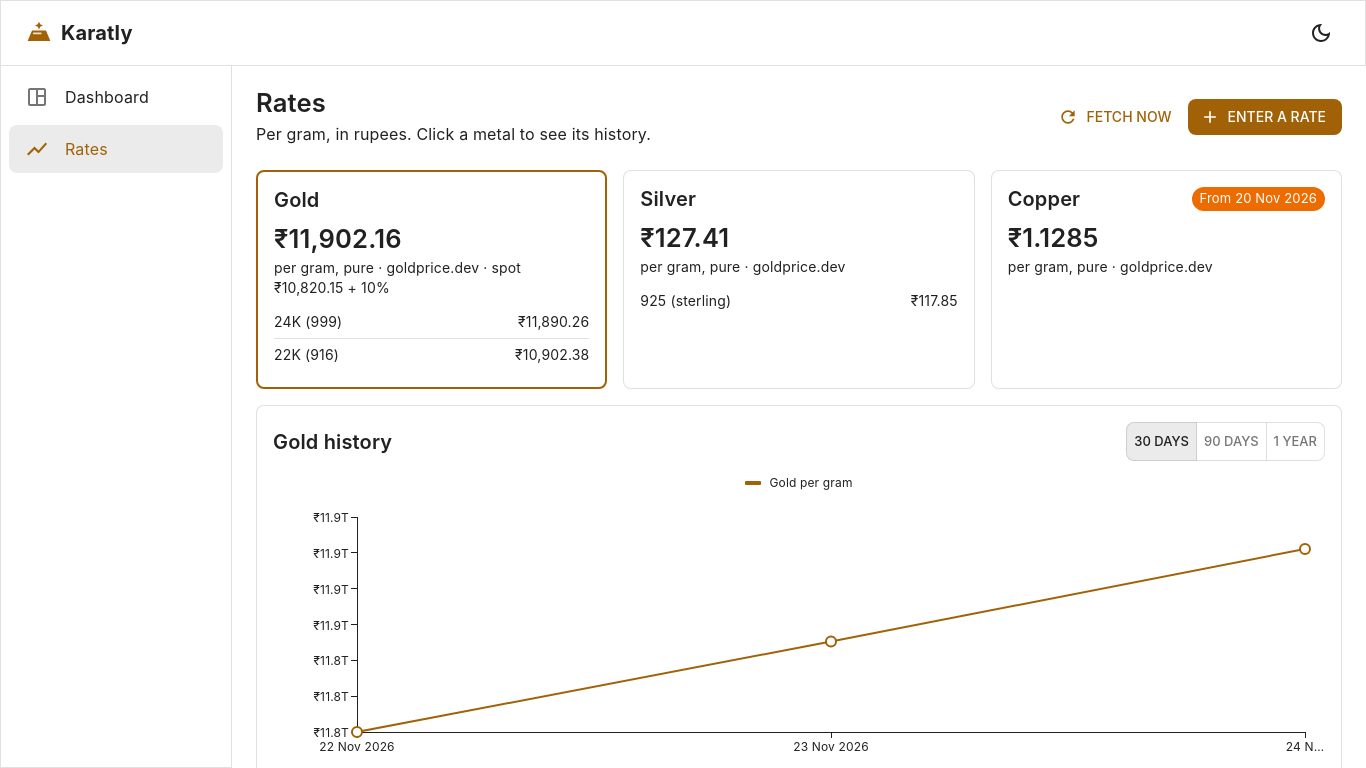
Rates page › enters a rate by hand and sends it to the API
This screenshot has width=1366, height=768.
Click the button "Enter a rate". click: [1265, 117]
box: [1188,99,1342,135]
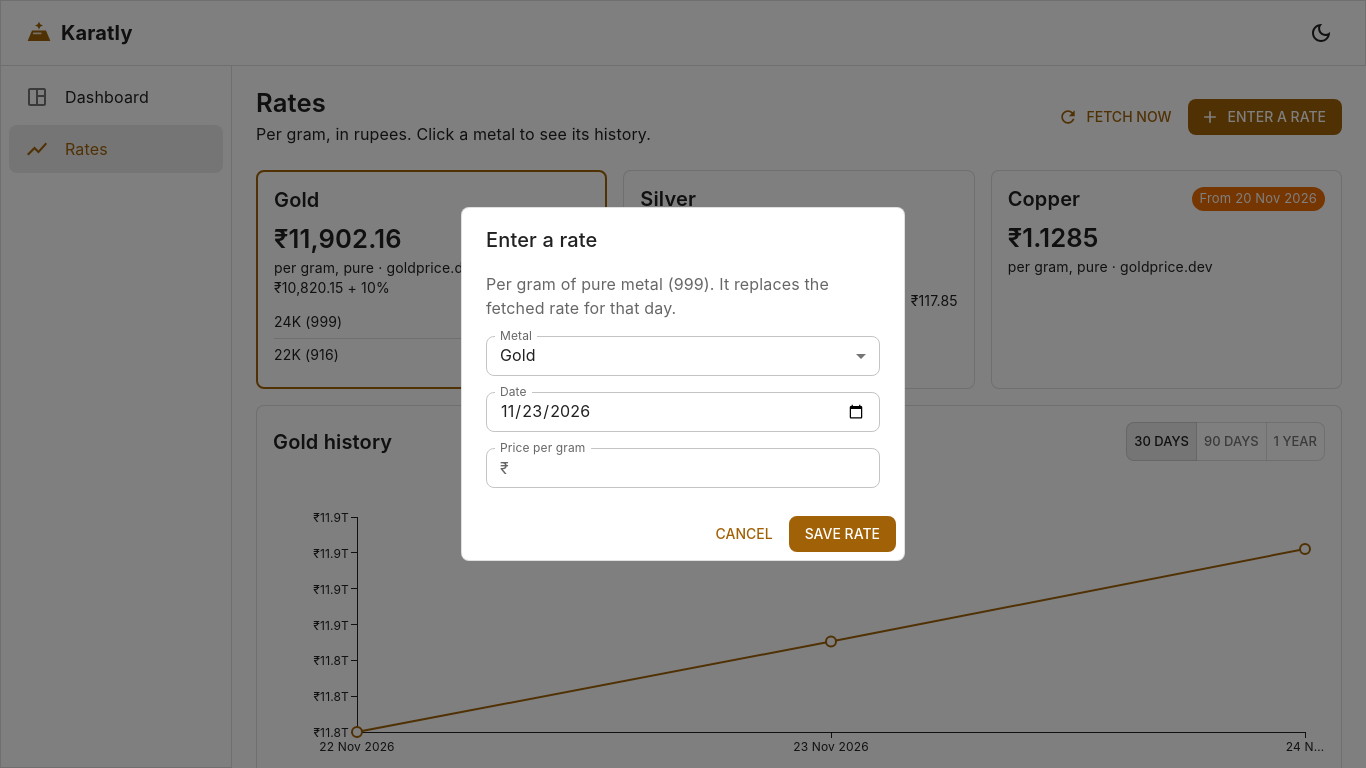
Type "abc" into the field labelled "Price per gram". click: [698, 468]
box: [517,448,880,488]
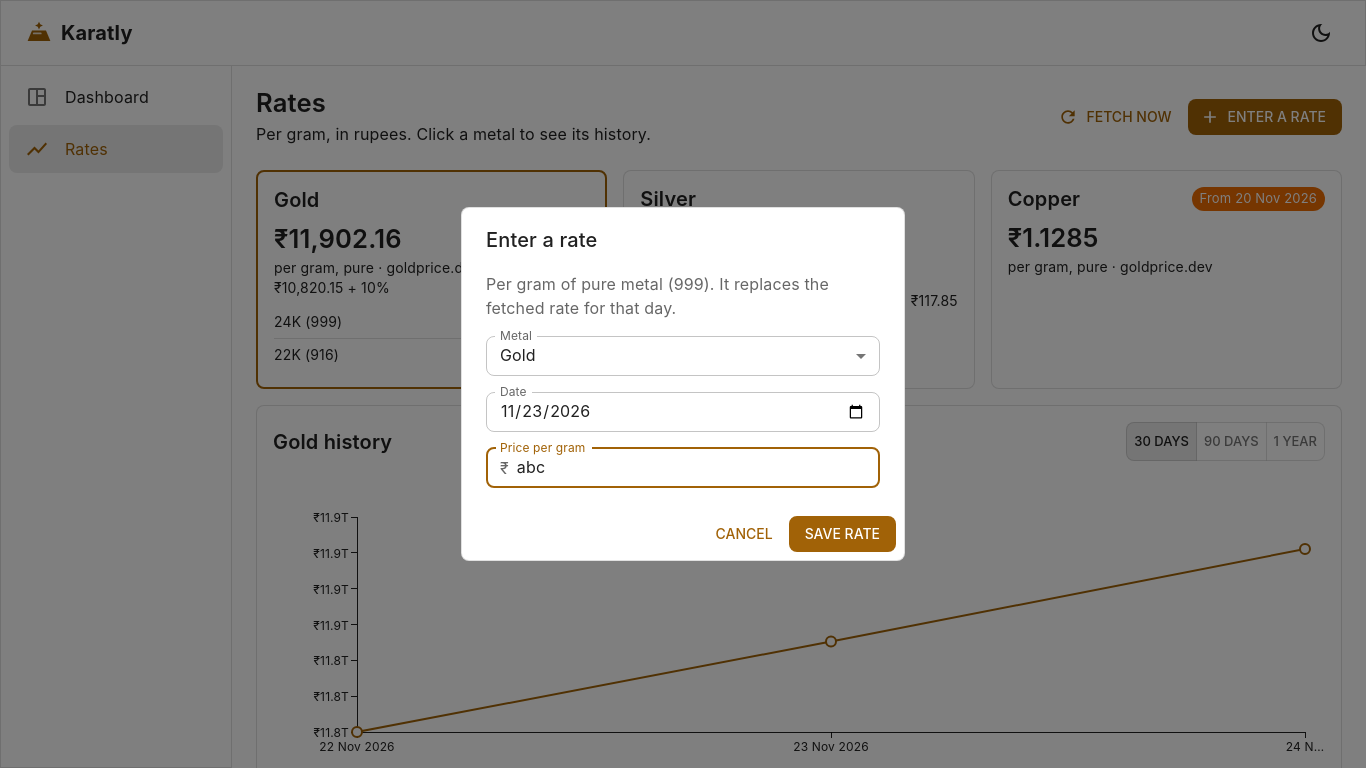
Click the button "Save rate". click: [842, 534]
box: [789,516,896,552]
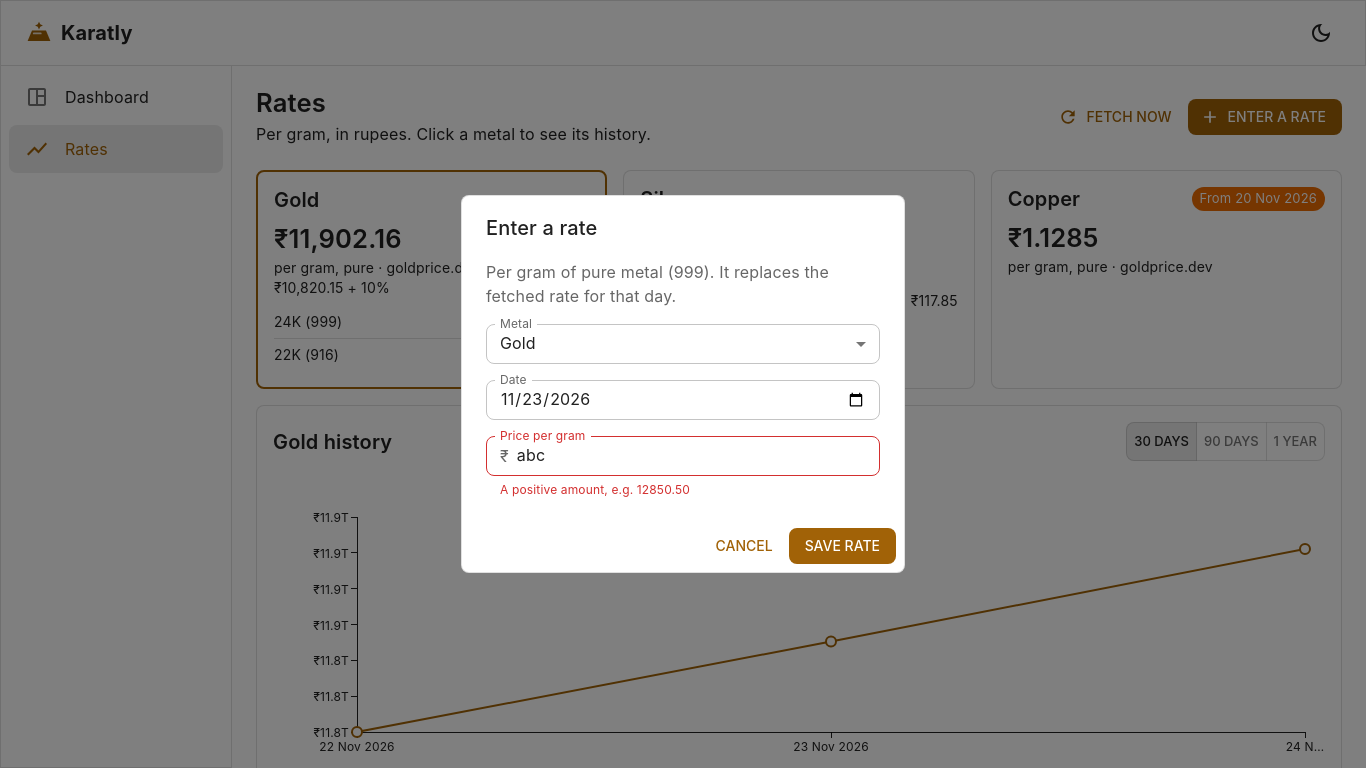
Now the text "A positive amount, e.g. 12850.50" is shown, box [500,482,690,497]
Replace the text in the field labelled "Price per gram" with "12850.50". click: [698, 456]
box: [517,436,880,476]
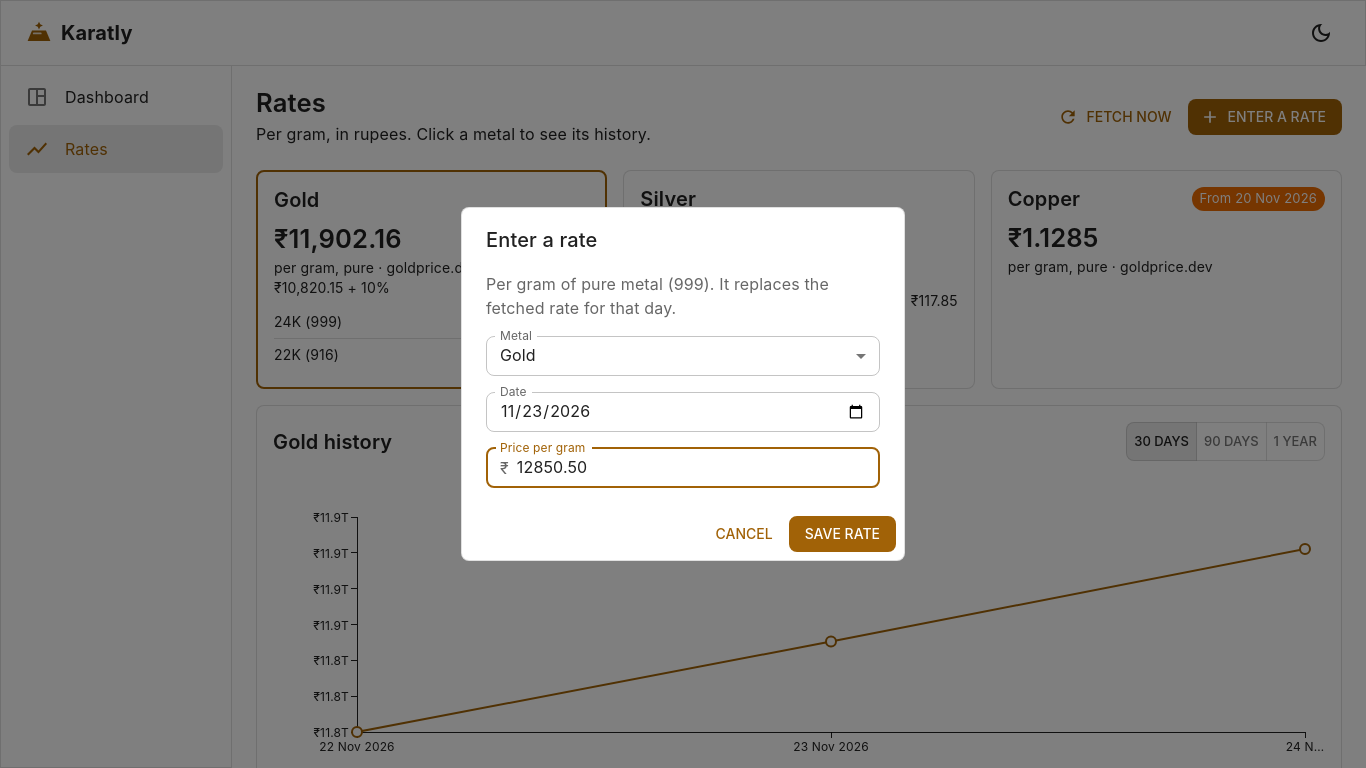
Click the button "Save rate". click: [842, 534]
box: [789,516,896,552]
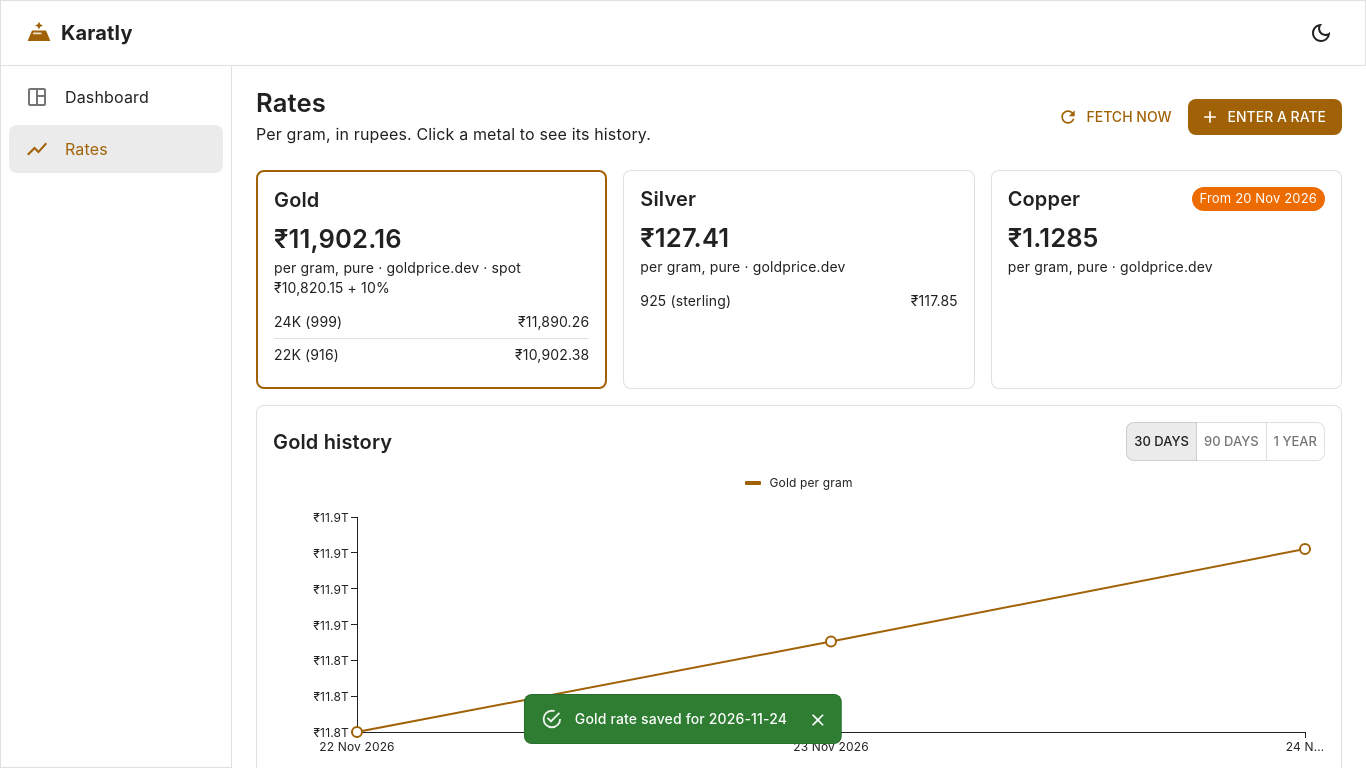
Now the text "Gold rate saved for 2026-11-24" is shown, box [575,710,787,727]
Now the dialog is gone
